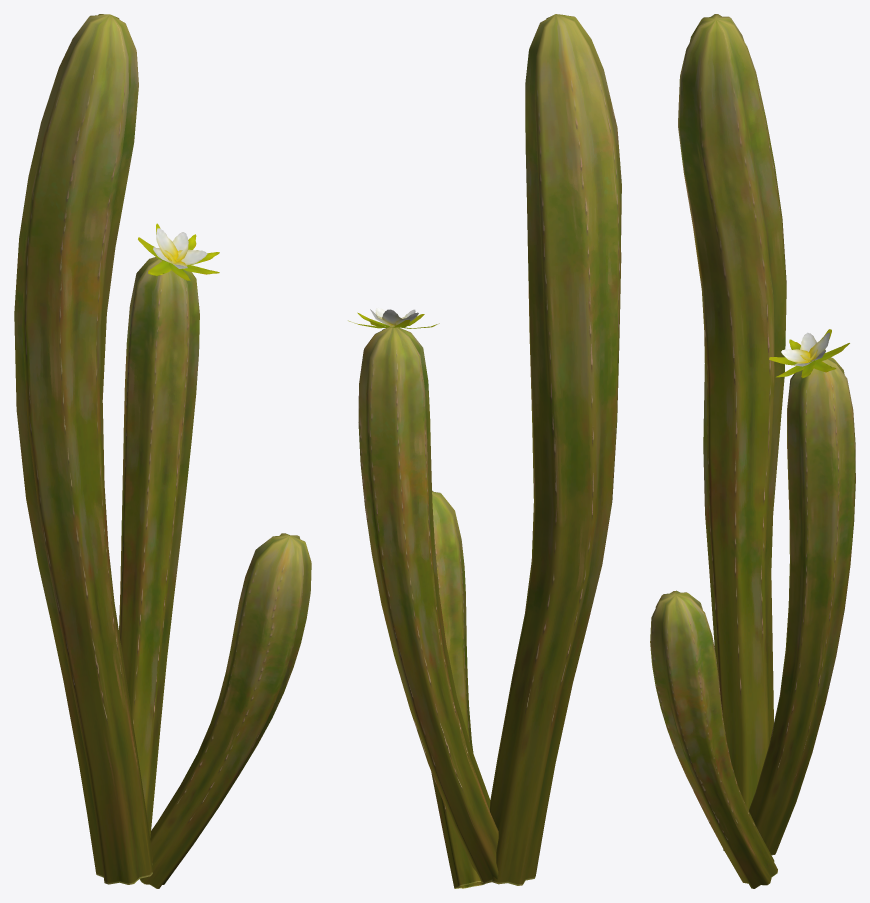
Rendered from P_Cactus03.obj.
The picture shows the model from 3 angles, left to right: view 1: azimuth 30°, elevation 25°; view 2: azimuth 150°, elevation 25°; view 3: azimuth 270°, elevation 25°; orthographic projection. The views are drawn at different scales.
Size of the model in its own units: 2.22 by 7.6 by 1.7.
